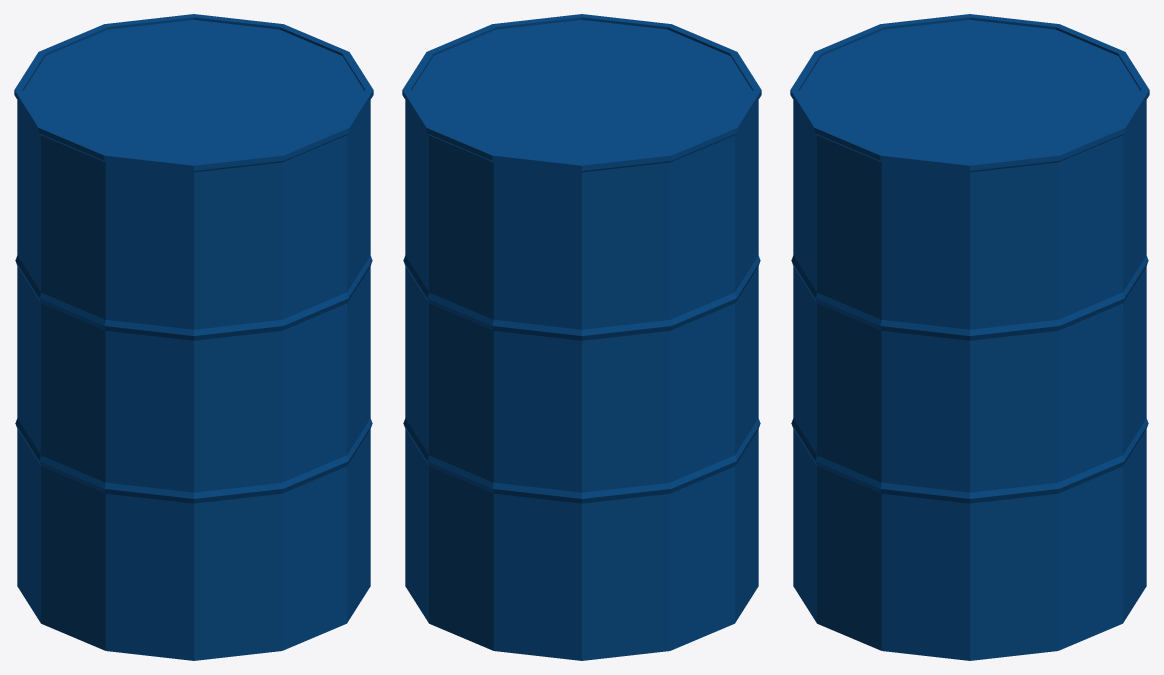
File: barrel.glb
3 renders of one model, left to right at view 1: azimuth 30°, elevation 25°; view 2: azimuth 150°, elevation 25°; view 3: azimuth 270°, elevation 25°, orthographic.
Visible parts, largest first — view 1: barrel_old; view 2: barrel_old; view 3: barrel_old.
Boxes of the visible parts, box(x1,y1,x2,y2) form: barrel_old: box(14, 14, 373, 660); barrel_old: box(402, 14, 761, 660); barrel_old: box(790, 14, 1149, 660).
Size of the model in its own units: 0.6542 by 0.998 by 0.6542.
